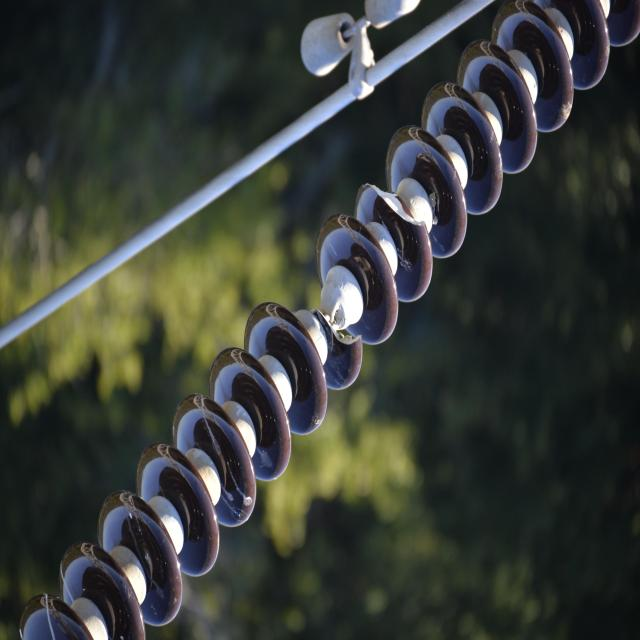broken: (364, 180, 427, 236), (304, 299, 364, 353)
insulator: (18, 3, 636, 637)
